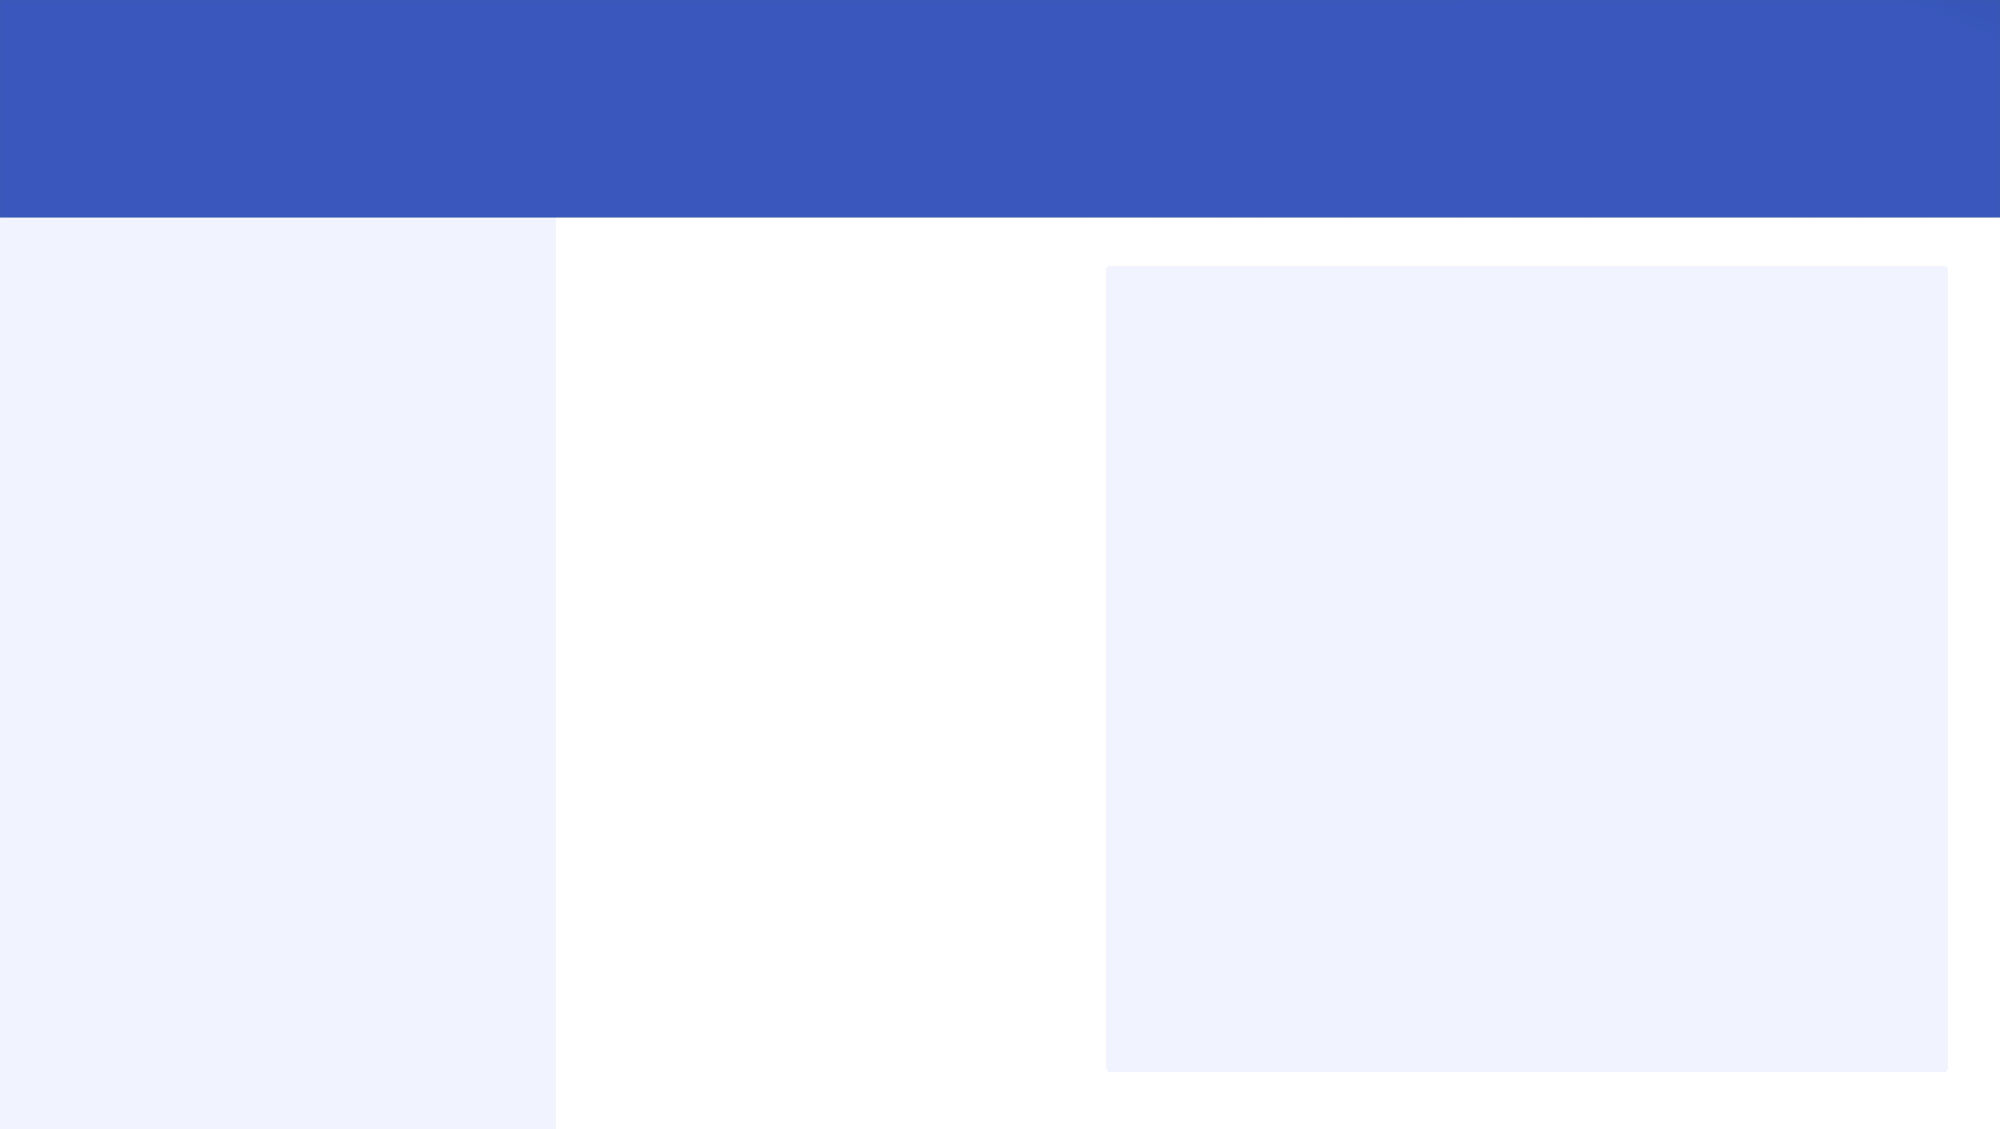

The page's visual inventory and layout, read from the dashboard file:
{"tool":"powerbi","page":{"name":"Página 1","canvas":[1280,720],"ordinal":0},"visuals":[{"type":"map","fields":{"Y":["base.latitude"],"X":["base.longitude"],"Size":["Max(base.valor_estimado_area)"]},"box":[712.5,173.8,528.8,502.5],"z":0},{"type":"slicer","fields":{"Values":["base.district"]},"box":[58,245.5,256.2,73.8],"z":1000},{"type":"slicer","fields":{"Values":["base.type"]},"box":[53,390.5,256.2,75],"z":2000},{"type":"card","fields":{"Values":["Avg(base.valor_estimado_area)"]},"box":[410,531.7,263.8,86.2],"z":3000},{"type":"card","fields":{"Values":["Avg(base.aluguel e despesas)"]},"box":[433.2,361.2,232.5,107.5],"z":4000},{"type":"card","fields":{"Values":["CountNonNull(base.aluguel e despesas)"]},"box":[442.5,230,197.5,80],"z":5000},{"type":"textbox","box":[57.5,499.2,256.2,41.2],"z":6000},{"type":"textbox","box":[52.5,348,256.2,41.2],"z":7000},{"type":"textbox","box":[58,204.2,256.2,41.2],"z":8000},{"type":"powerslider","fields":{"Category":["base.aluguel e despesas"]},"box":[58,550.5,256.2,78.8],"z":9000},{"type":"textbox","box":[78.8,25,1123.8,90],"z":10000},{"type":"textbox","box":[412.5,191.2,256.2,41.2],"z":11000},{"type":"textbox","box":[419.5,345,256.2,41.2],"z":12000},{"type":"textbox","box":[408,500.5,266.2,41.2],"z":13000}]}

Visuals, with their boxes in screenshot pixels (x1, y1, x2, y2), scaled from the page's 1280x720 canvas onto the 2000x1129 screenshot:
map - base.latitude x base.longitude: BBox(1113, 273, 1940, 1060)
slicer - base.district: BBox(91, 385, 491, 501)
slicer - base.type: BBox(83, 612, 483, 730)
card - Avg(base.valor_estimado_area): BBox(641, 834, 1053, 969)
card - Avg(base.aluguel e despesas): BBox(677, 566, 1040, 735)
card - CountNonNull(base.aluguel e despesas): BBox(691, 361, 1000, 486)
textbox: BBox(90, 783, 490, 847)
textbox: BBox(82, 546, 482, 610)
textbox: BBox(91, 320, 491, 385)
powerslider - base.aluguel e despesas: BBox(91, 863, 491, 987)
textbox: BBox(123, 39, 1879, 180)
textbox: BBox(645, 300, 1045, 364)
textbox: BBox(655, 541, 1056, 606)
textbox: BBox(638, 785, 1053, 849)
